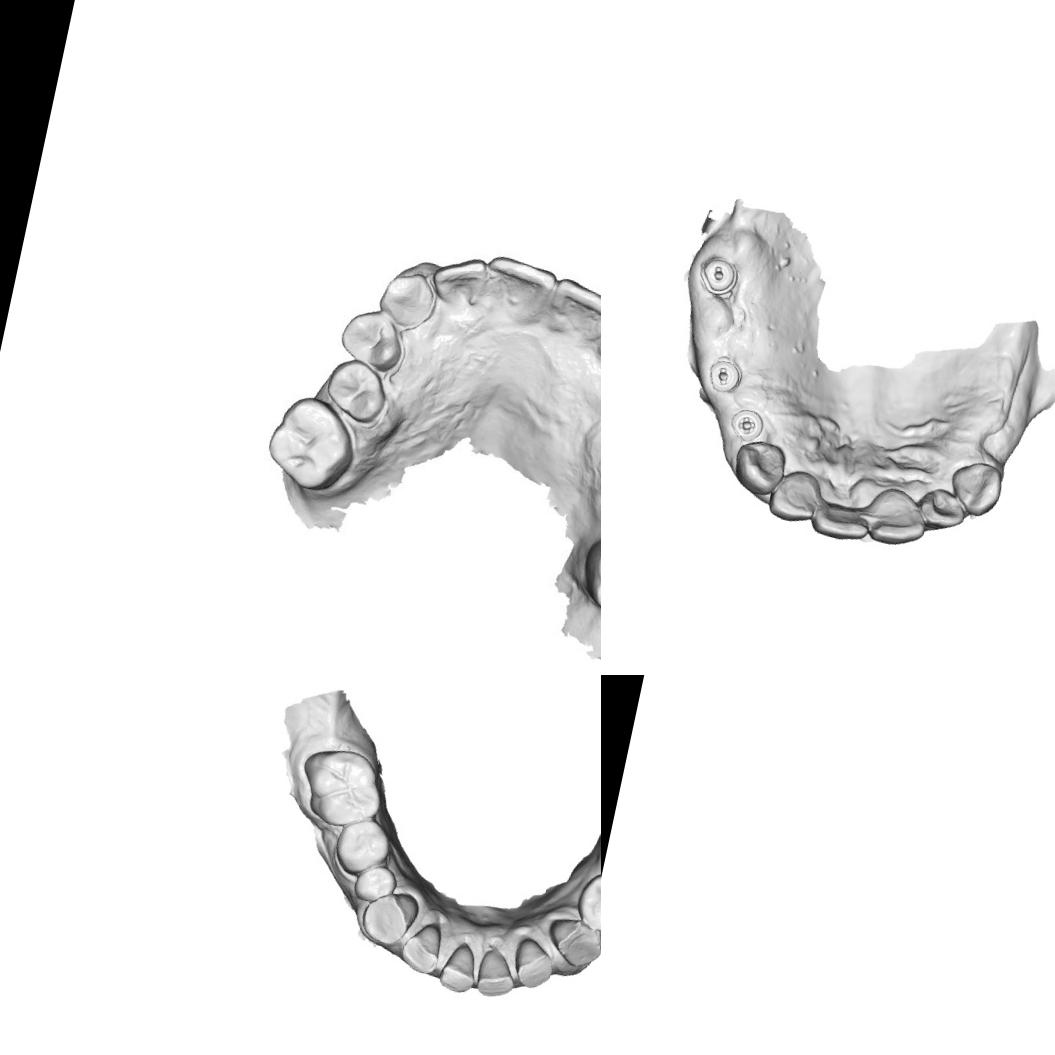canine: (354, 883, 424, 953), (373, 266, 441, 335), (943, 456, 1007, 522), (729, 435, 790, 499), (543, 913, 601, 974)
implant_minus: (694, 253, 742, 300), (703, 353, 747, 396)
implant_plus: (724, 402, 768, 446)
incisor: (476, 250, 560, 334), (861, 484, 932, 552), (542, 273, 601, 353), (764, 464, 824, 527), (432, 252, 489, 318), (509, 936, 562, 995), (396, 918, 447, 978), (469, 947, 522, 1004), (436, 938, 484, 998), (915, 484, 970, 535), (809, 500, 871, 544)
molar: (260, 390, 364, 498), (288, 740, 392, 836), (572, 526, 601, 627)
premolar: (334, 302, 410, 376), (319, 354, 394, 428), (329, 812, 396, 880), (349, 859, 401, 908), (571, 867, 601, 941)
